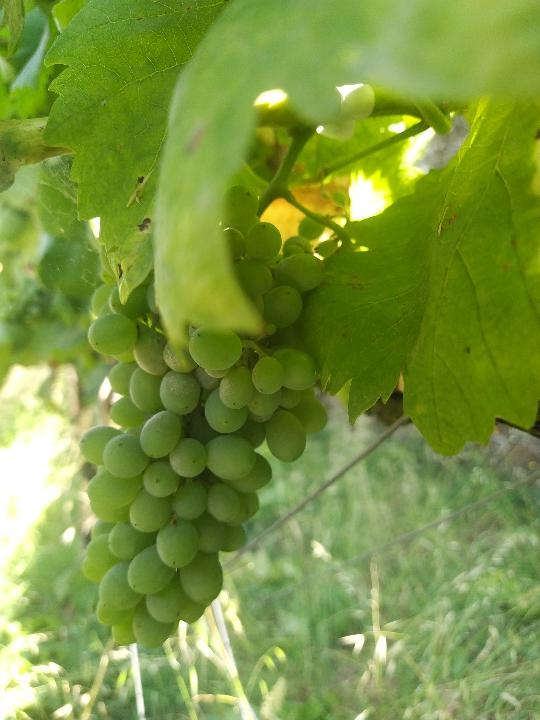grape: (69, 186, 328, 652)
